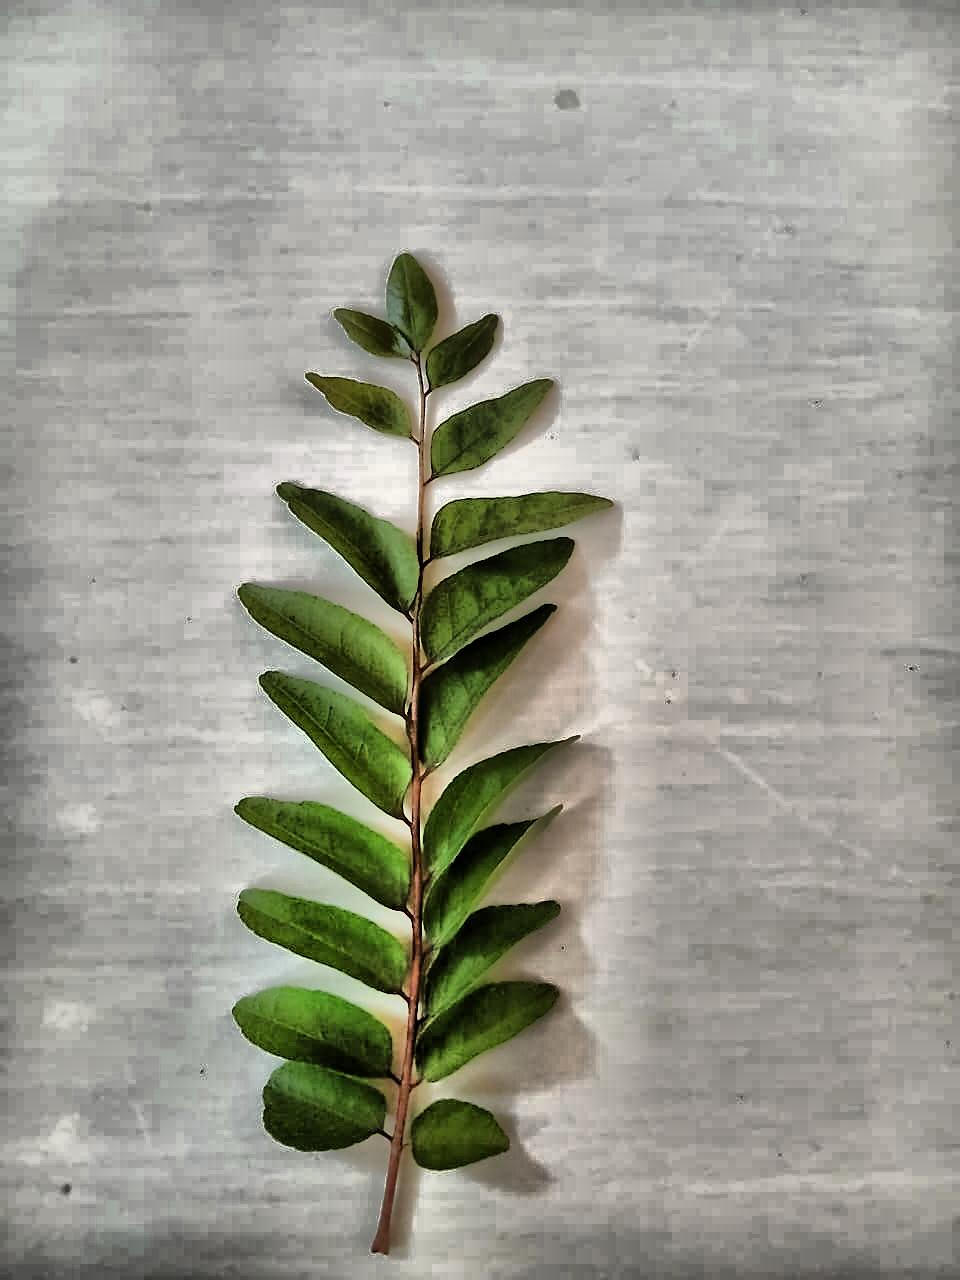daun kari: (236, 254, 612, 1252)
